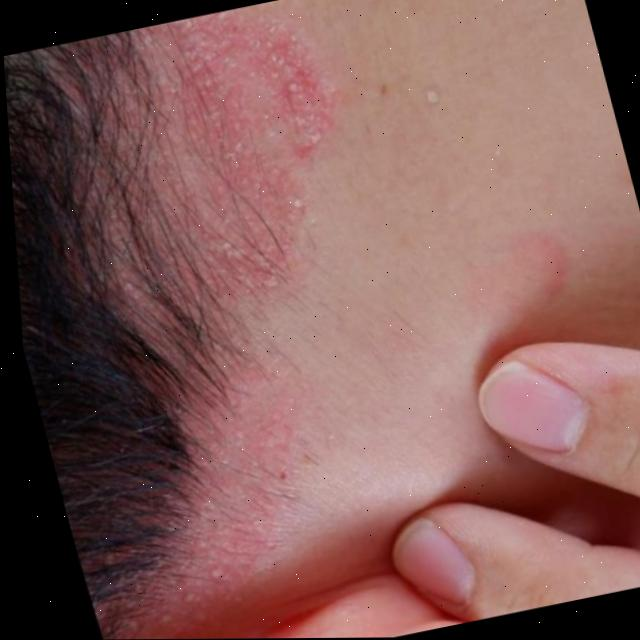Eczema: (50, 19, 413, 602)
